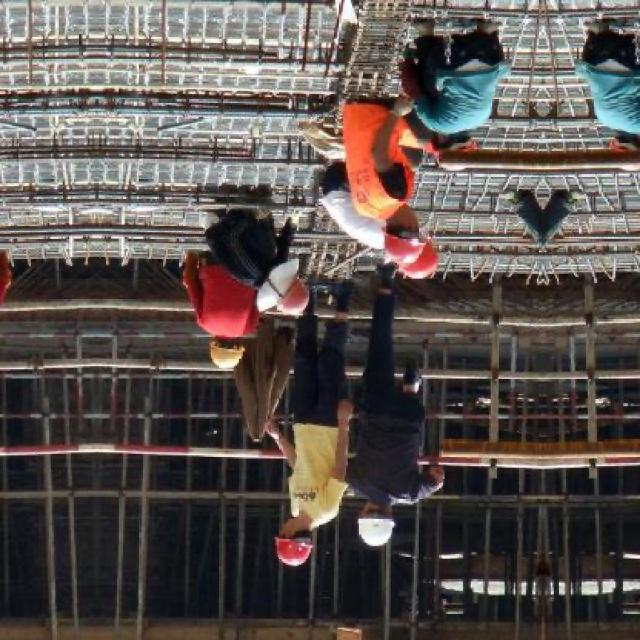con casco: (217, 221, 316, 324), (256, 488, 332, 587), (396, 112, 482, 186), (349, 469, 414, 564), (196, 325, 270, 405), (374, 172, 416, 255), (388, 245, 436, 288)
